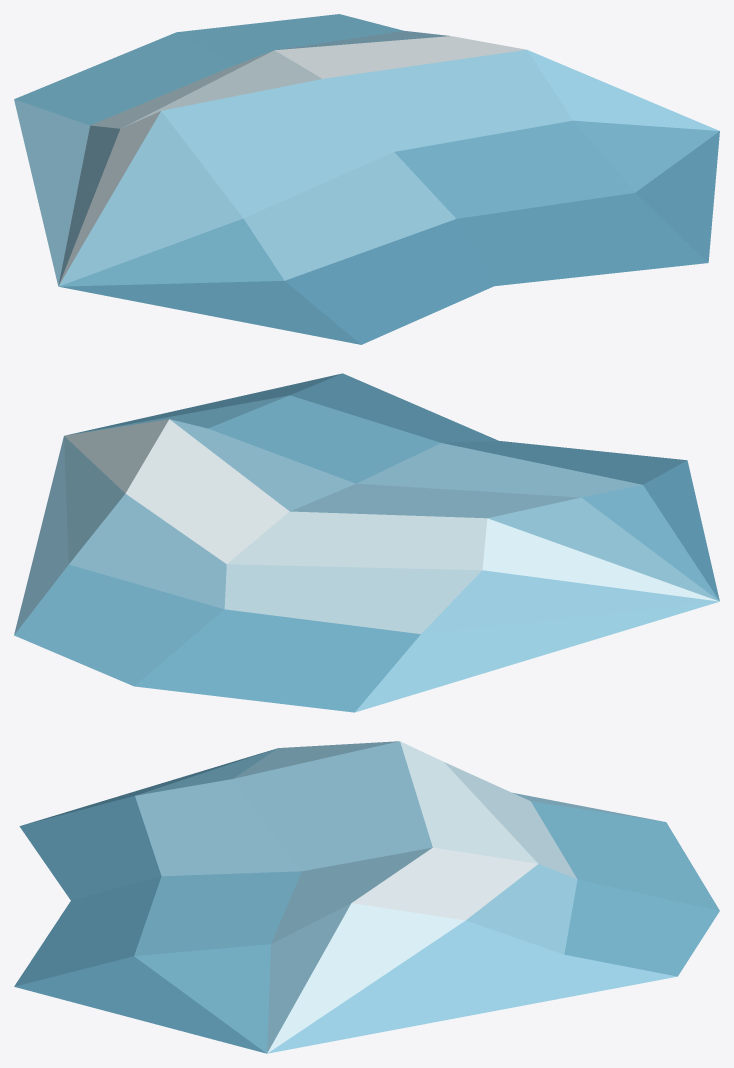
File: wave_4.glb
3 renders of one model, top to bottom at view 1: azimuth 30°, elevation 25°; view 2: azimuth 150°, elevation 25°; view 3: azimuth 270°, elevation 25°, orthographic. The views are drawn at different scales.
Visible parts, largest first — view 1: wave_4_0; view 2: wave_4_0; view 3: wave_4_0.
Part boxes in pixels (bbox=[...]): wave_4_0: bbox=[14, 14, 719, 344]; wave_4_0: bbox=[14, 373, 719, 712]; wave_4_0: bbox=[14, 741, 719, 1053].
Bounding box in the file's own units: 0.9593 × 0.1238 × 0.9362.
